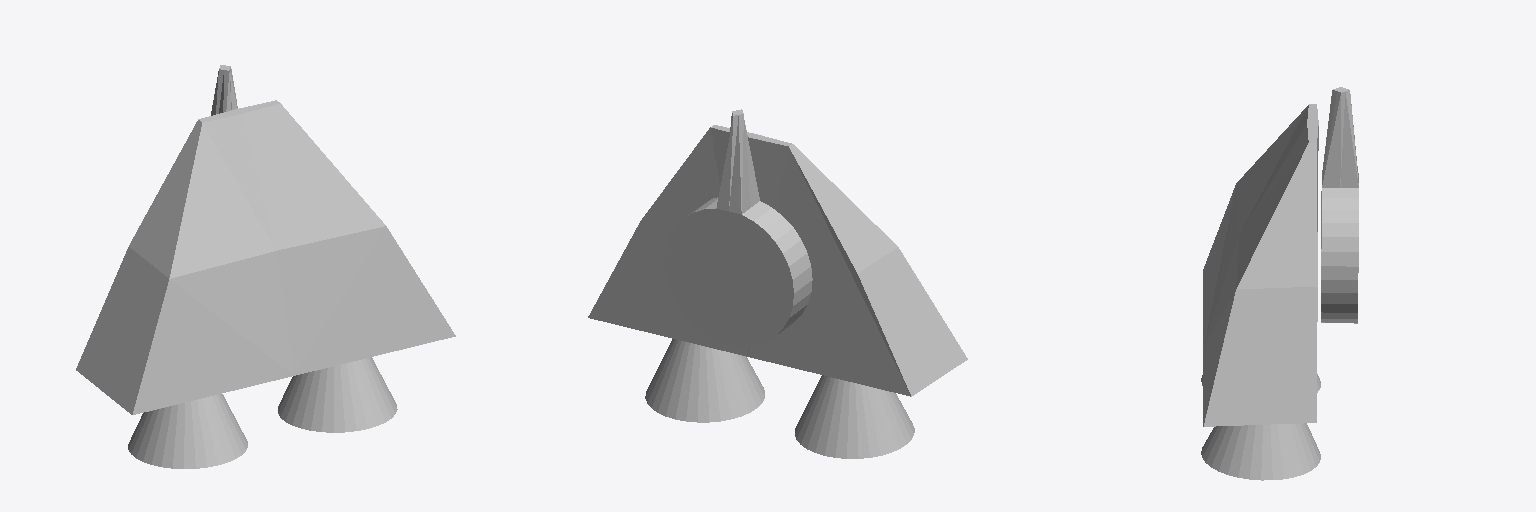
Rendered from spaceship_def.obj.
The picture shows the model from 3 angles: view 1: azimuth 30°, elevation 25°; view 2: azimuth 150°, elevation 25°; view 3: azimuth 270°, elevation 25°; orthographic projection.
Parts seen in each view (by area): view 1: ship_body_Cube, Right_rocket_Cone.001, Left_rocket_Cone, Cannon_Cylinder.001; view 2: ship_body_Cube, Cannon_Cylinder.001, Right_rocket_Cone.001, Left_rocket_Cone; view 3: ship_body_Cube, Cannon_Cylinder.001, Right_rocket_Cone.001.
Boxes of the visible parts, x1=… form: ship_body_Cube: x1=76, y1=100, x2=455, y2=414; Right_rocket_Cone.001: x1=278, y1=357, x2=397, y2=432; Left_rocket_Cone: x1=128, y1=394, x2=247, y2=468; Cannon_Cylinder.001: x1=211, y1=65, x2=237, y2=115; ship_body_Cube: x1=588, y1=125, x2=967, y2=396; Cannon_Cylinder.001: x1=665, y1=109, x2=812, y2=346; Right_rocket_Cone.001: x1=645, y1=339, x2=764, y2=422; Left_rocket_Cone: x1=795, y1=375, x2=914, y2=458; ship_body_Cube: x1=1203, y1=104, x2=1318, y2=426; Cannon_Cylinder.001: x1=1321, y1=87, x2=1358, y2=323; Right_rocket_Cone.001: x1=1201, y1=423, x2=1320, y2=480.
Size of the model in its own units: 3.08 by 3.01 by 1.3.